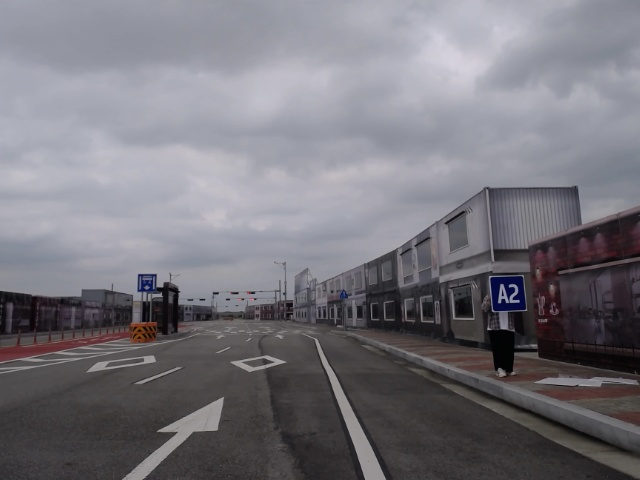delivery_a2: (489, 275, 527, 313)
